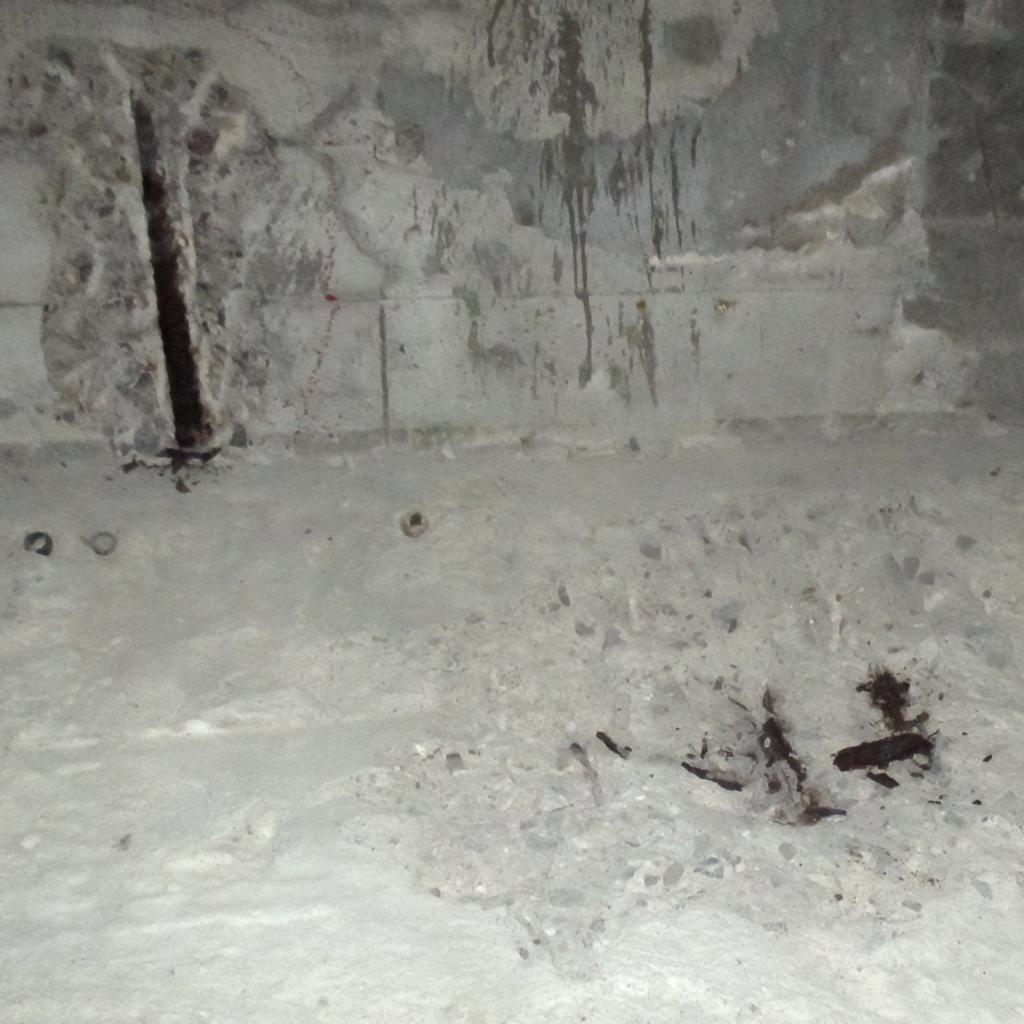exposed_rebar: (130, 98, 210, 448), (834, 666, 934, 788), (758, 690, 844, 823), (684, 742, 750, 790)
spalling: (338, 466, 1024, 950), (14, 44, 294, 450)
